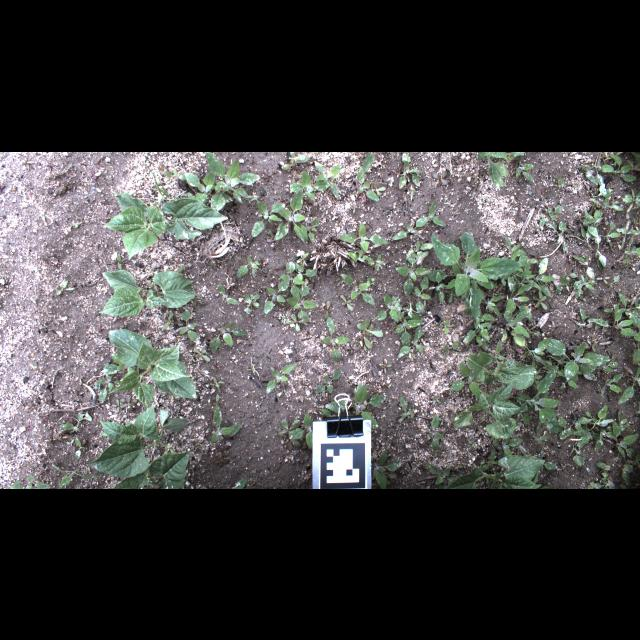crop: (427, 230, 521, 324), (102, 192, 228, 260), (86, 400, 188, 478), (106, 328, 198, 410), (96, 268, 196, 316), (454, 380, 520, 438), (444, 454, 556, 488), (111, 450, 191, 488), (468, 352, 536, 388), (478, 152, 526, 188)
weed: (501, 366, 564, 434), (559, 404, 615, 468), (206, 152, 260, 214), (542, 336, 612, 380), (324, 380, 388, 428), (390, 199, 446, 239), (394, 244, 432, 294), (274, 188, 308, 242), (600, 408, 634, 462), (511, 328, 552, 372), (184, 169, 232, 205), (336, 220, 389, 250), (586, 304, 634, 336), (392, 301, 422, 349), (462, 308, 496, 350), (521, 256, 555, 298), (502, 276, 534, 320), (321, 316, 351, 362), (52, 462, 104, 488), (210, 320, 248, 354), (372, 448, 404, 488), (287, 280, 317, 322), (339, 272, 376, 306), (252, 200, 286, 236), (448, 361, 480, 399), (211, 404, 241, 442), (314, 159, 344, 197), (391, 152, 422, 188), (501, 307, 531, 343), (280, 260, 304, 302), (289, 410, 315, 448), (266, 362, 296, 394), (264, 278, 290, 314), (543, 214, 567, 252), (356, 163, 380, 200), (602, 153, 634, 180), (618, 290, 640, 328), (424, 463, 460, 485), (96, 376, 126, 402), (356, 318, 382, 348), (290, 169, 314, 199), (554, 275, 584, 299), (568, 226, 598, 250), (600, 220, 622, 252), (314, 370, 342, 394), (179, 306, 197, 342), (60, 412, 92, 432), (415, 277, 431, 317), (540, 203, 564, 229), (428, 412, 444, 450), (572, 254, 594, 280), (10, 474, 50, 488), (237, 255, 261, 278), (281, 151, 309, 169), (595, 232, 607, 272), (588, 197, 622, 210), (219, 282, 239, 304), (602, 374, 624, 394), (622, 188, 640, 212), (516, 162, 534, 182), (244, 292, 260, 314), (400, 394, 414, 416), (434, 272, 444, 302), (533, 289, 547, 309), (193, 348, 210, 360), (163, 312, 173, 330)
